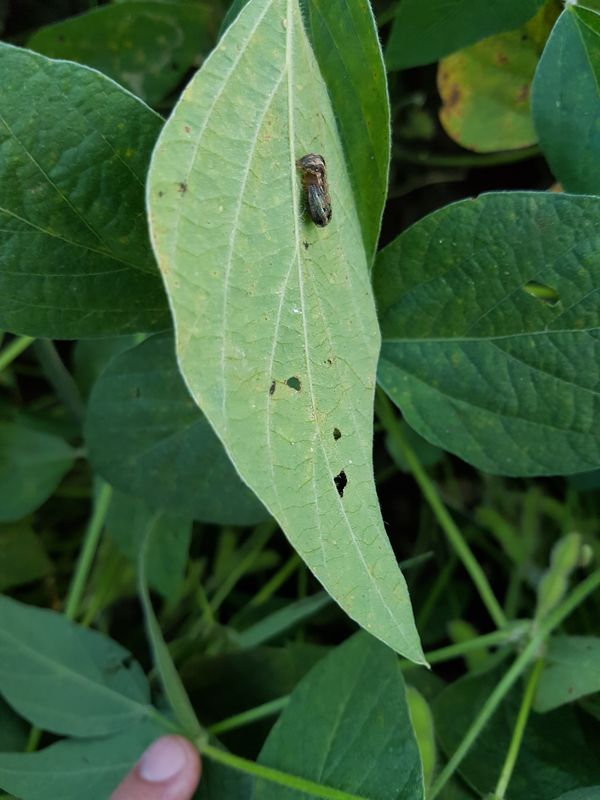Spodoptera_albula: (281, 145, 348, 230)
